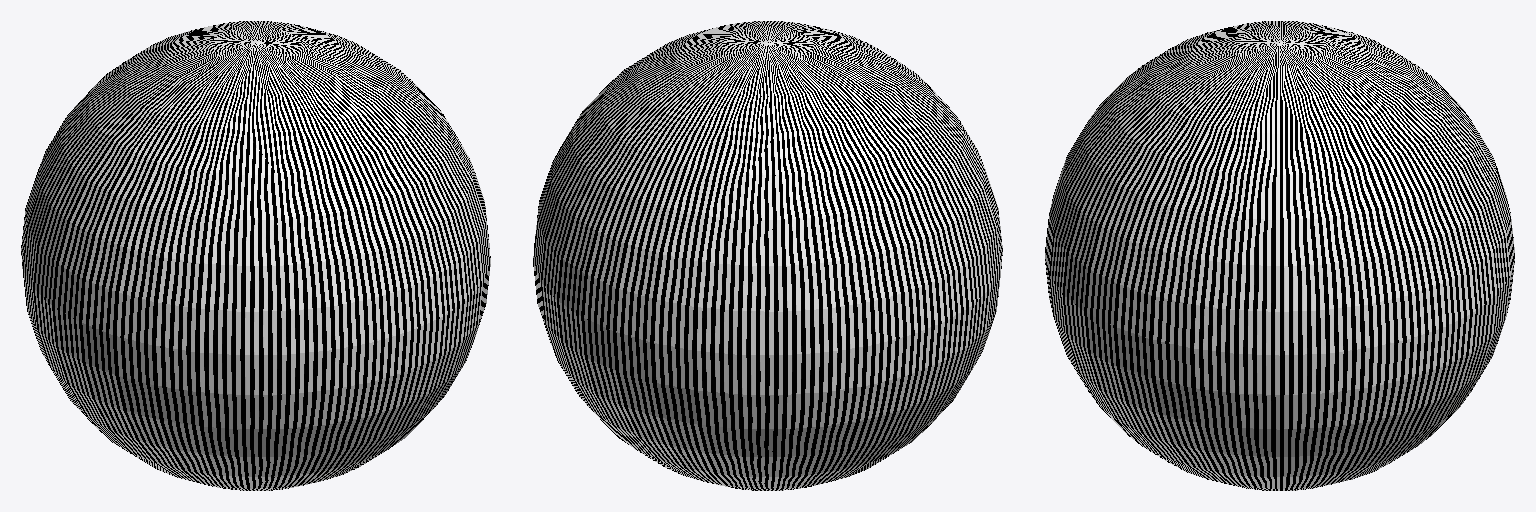
The picture shows the model from 3 angles: view 1: azimuth 30°, elevation 25°; view 2: azimuth 150°, elevation 25°; view 3: azimuth 270°, elevation 25°; orthographic projection.
Visible parts, largest first — view 1: Sphere; view 2: Sphere; view 3: Sphere.
Boxes of the visible parts, x1,y1,x2,y2 form: Sphere: [21, 21, 490, 490]; Sphere: [533, 21, 1002, 490]; Sphere: [1045, 21, 1514, 490].
Bounding box in the file's own units: 3.12 × 3.12 × 3.12.
Materials: 1 (1 with a texture image).